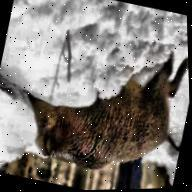boar: (12, 30, 192, 191)
